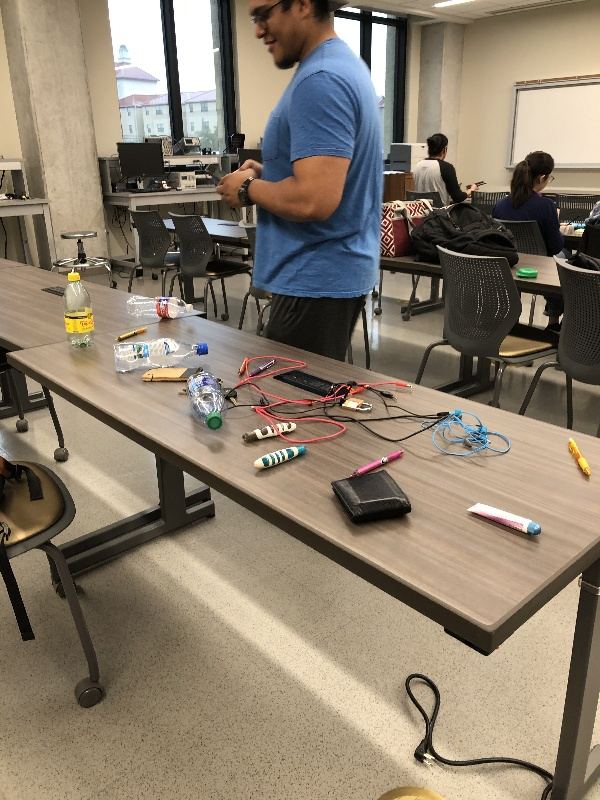bottle: (106, 335, 213, 376), (57, 269, 105, 345), (184, 367, 235, 435), (120, 292, 201, 323)
